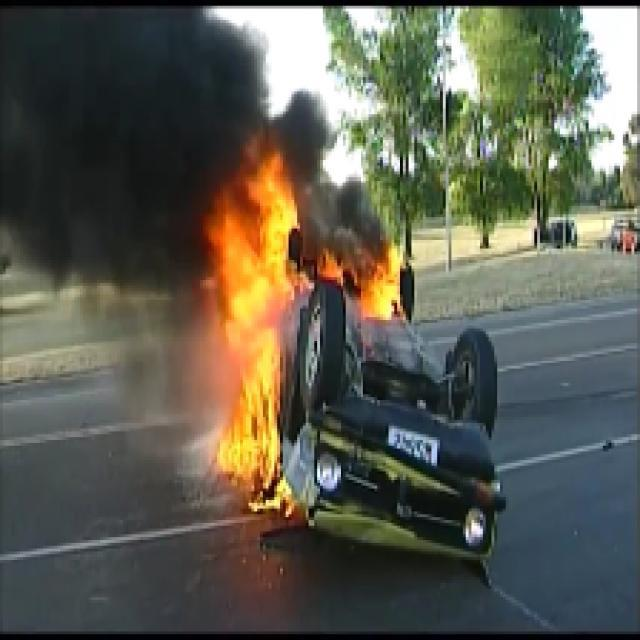Fire: (217, 193, 296, 458)
Smoke: (7, 16, 208, 252)
